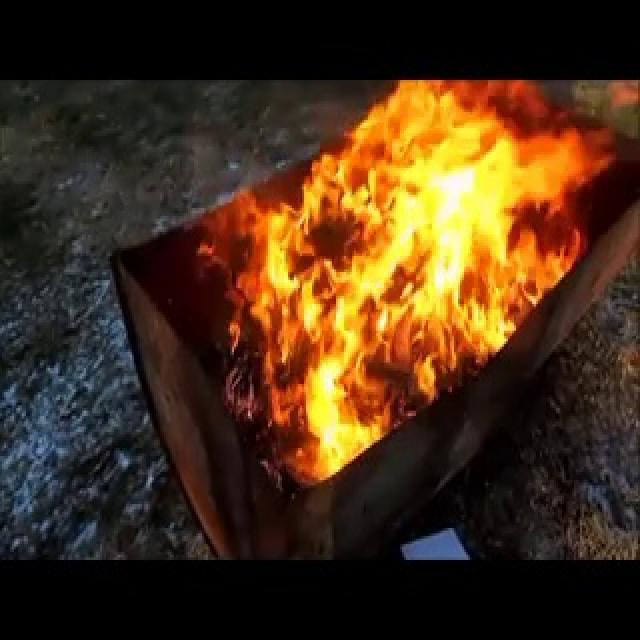Fire: (203, 85, 617, 488)
